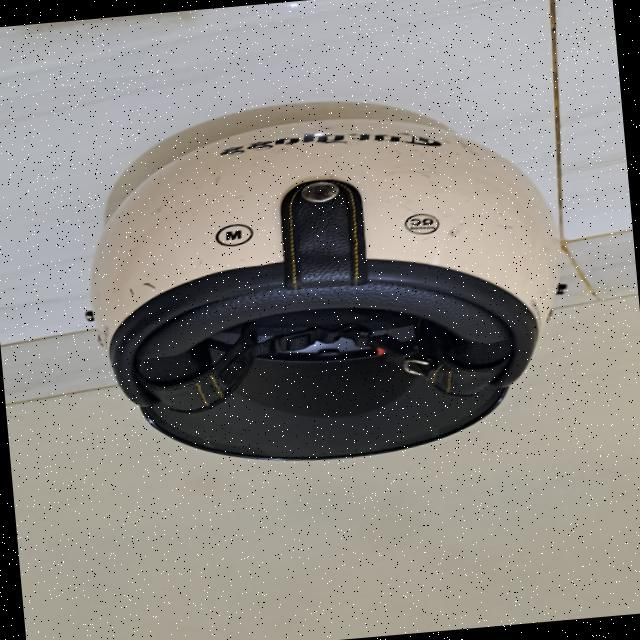Helm: (63, 90, 576, 497)
